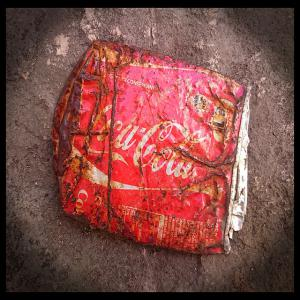Can: (52, 42, 251, 256)
